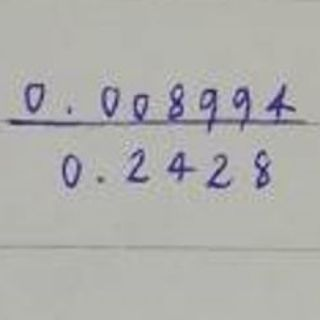.: (62, 102, 76, 118), (94, 173, 108, 189)
0: (60, 152, 83, 191), (23, 80, 46, 114), (99, 85, 121, 117), (132, 92, 150, 120)
2: (123, 147, 152, 186), (204, 152, 233, 190)
4: (263, 82, 298, 120), (165, 150, 199, 184)
8: (252, 148, 274, 190), (168, 82, 186, 120)
9: (230, 85, 252, 133), (197, 87, 218, 134)
